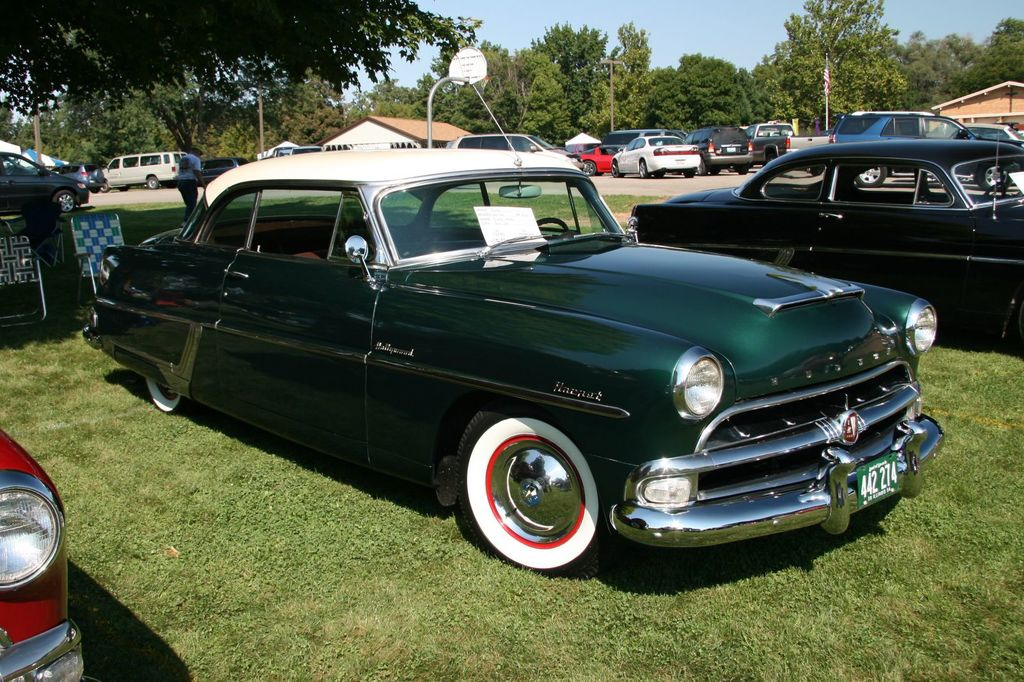Car: (78, 141, 952, 578), (615, 138, 1023, 332), (0, 419, 101, 681), (837, 110, 1008, 190), (615, 134, 704, 191), (936, 118, 1023, 149), (690, 126, 752, 167), (567, 134, 609, 175)
